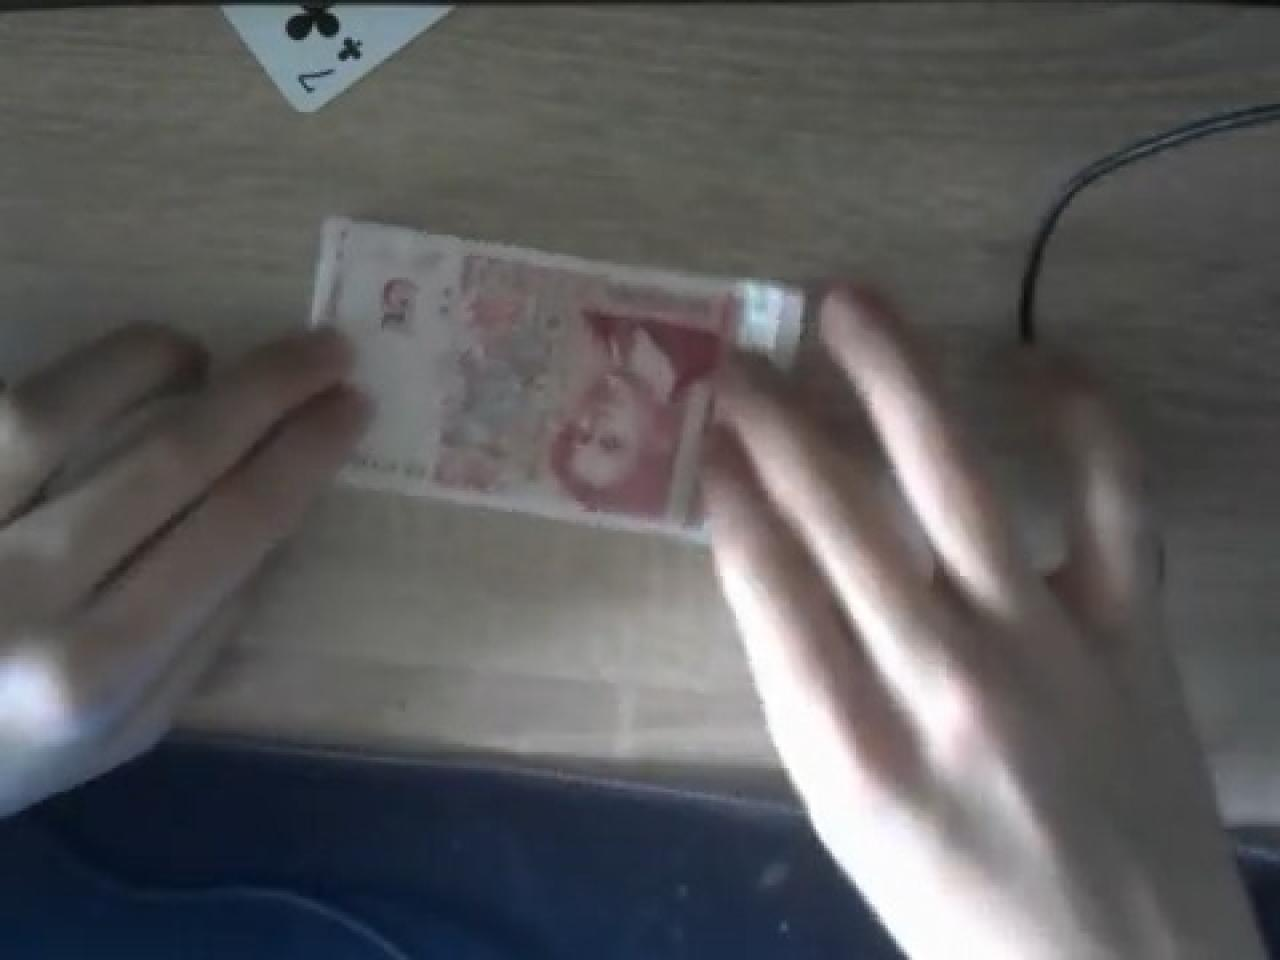5leva: (306, 214, 742, 538)
